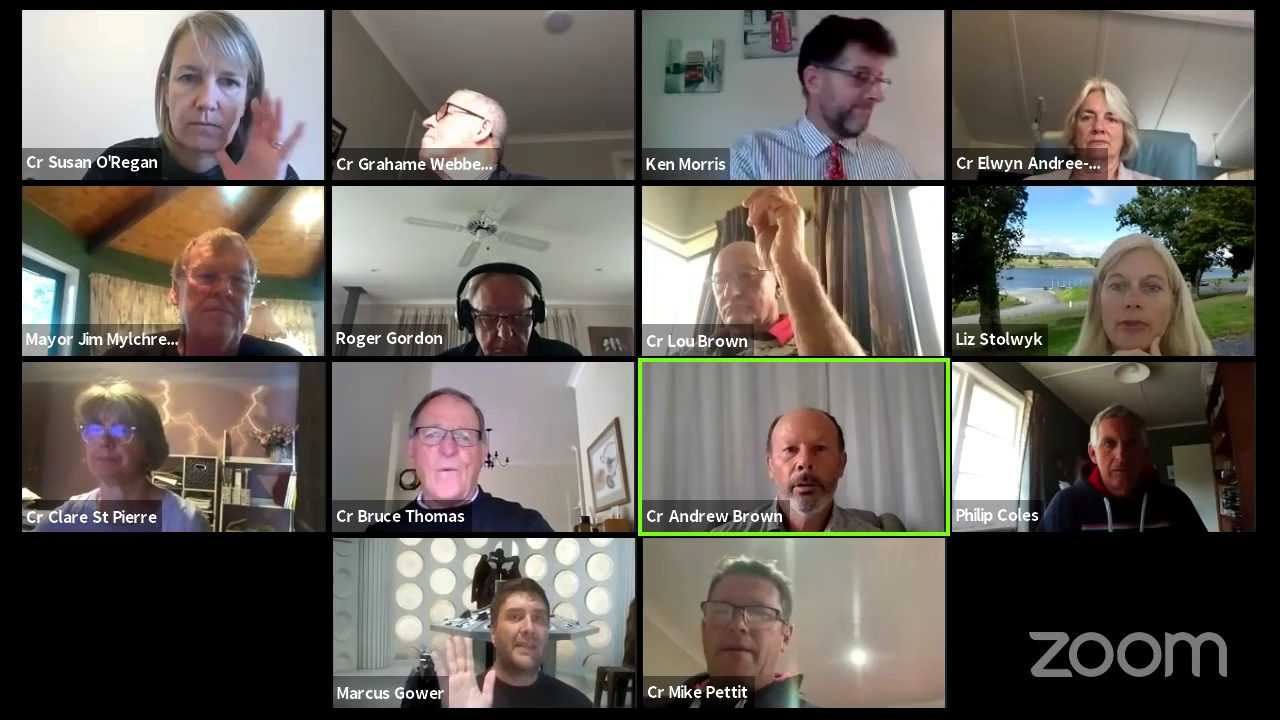Distracted: (793, 25, 894, 139), (416, 91, 494, 165), (460, 283, 540, 352)
Not Distracted: (158, 26, 252, 151), (694, 562, 789, 676), (766, 407, 854, 506), (1089, 252, 1180, 347), (407, 401, 488, 496), (179, 241, 257, 333), (76, 397, 157, 478), (1081, 411, 1154, 494), (712, 239, 777, 330), (1060, 82, 1140, 153), (492, 583, 549, 661)
